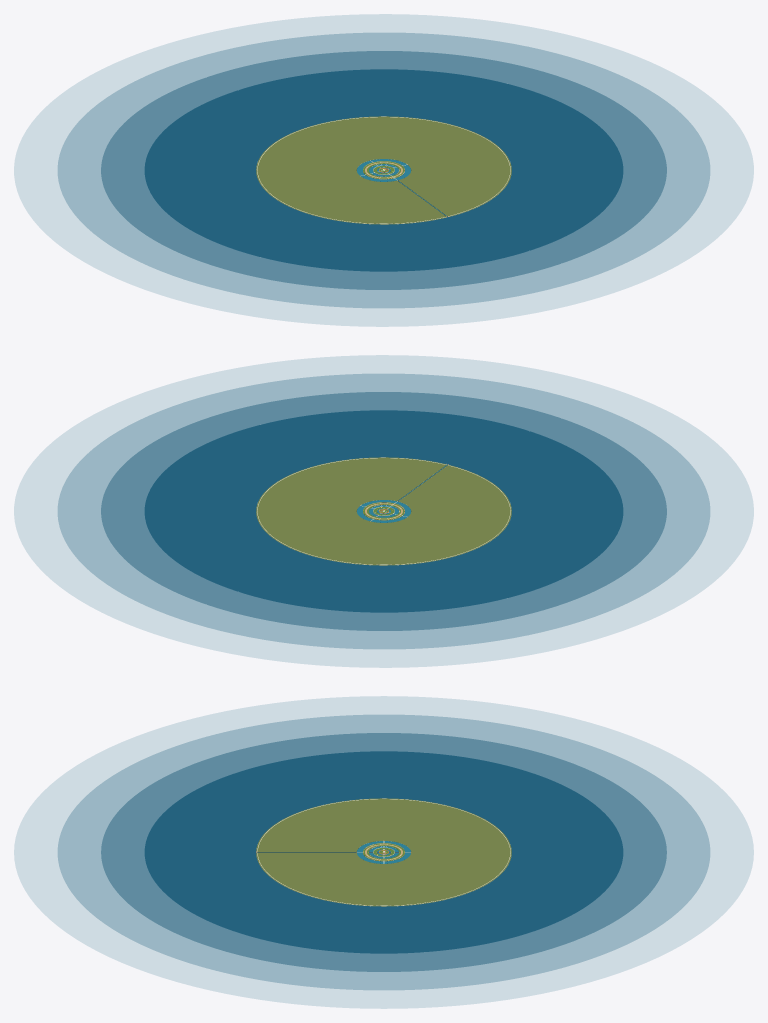
Rendered from rings-lite.glb.
The picture shows the model from 3 angles, top to bottom: view 1: azimuth 30°, elevation 25°; view 2: azimuth 150°, elevation 25°; view 3: azimuth 270°, elevation 25°; orthographic projection.
Parts seen in each view (by area): view 1: atlantis-sea, atlantis-seaFade3, atlantis-seaFade2, atlantis-seaFade1, atlantis-plain, atlantis-water, atlantis-white; view 2: atlantis-sea, atlantis-seaFade3, atlantis-seaFade2, atlantis-seaFade1, atlantis-plain, atlantis-water, atlantis-white; view 3: atlantis-sea, atlantis-seaFade3, atlantis-seaFade2, atlantis-seaFade1, atlantis-plain, atlantis-water, atlantis-white.
Boxes of the visible parts, <box> form: atlantis-sea: <box>144,69,623,271</box>; atlantis-seaFade3: <box>14,14,753,326</box>; atlantis-seaFade2: <box>57,32,710,308</box>; atlantis-seaFade1: <box>101,51,666,289</box>; atlantis-plain: <box>256,116,511,224</box>; atlantis-water: <box>357,159,447,217</box>; atlantis-white: <box>257,116,510,223</box>; atlantis-sea: <box>144,410,623,612</box>; atlantis-seaFade3: <box>14,355,753,667</box>; atlantis-seaFade2: <box>57,373,710,649</box>; atlantis-seaFade1: <box>101,392,666,630</box>; atlantis-plain: <box>256,457,511,565</box>; atlantis-water: <box>357,464,447,522</box>; atlantis-white: <box>257,457,510,564</box>; atlantis-sea: <box>144,751,623,953</box>; atlantis-seaFade3: <box>14,696,753,1008</box>; atlantis-seaFade2: <box>57,714,710,990</box>; atlantis-seaFade1: <box>101,733,666,971</box>; atlantis-plain: <box>256,798,511,906</box>; atlantis-water: <box>257,841,410,863</box>; atlantis-white: <box>256,798,510,905</box>.
Bounding box in the file's own units: 6800 × 16.27 × 6800.
